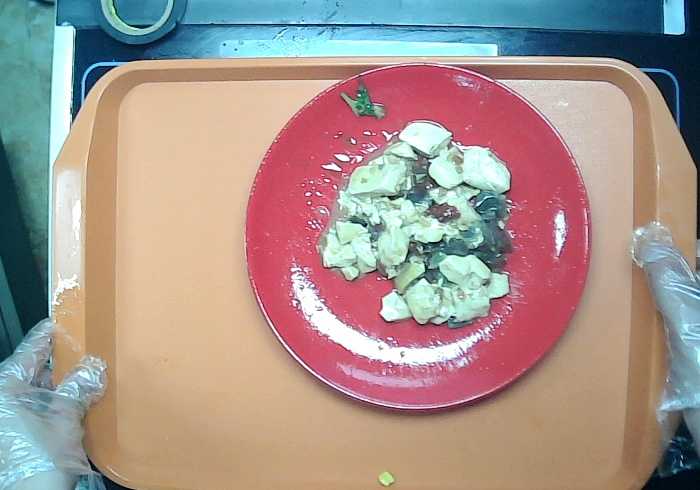HZYJPL-Hong_Se_Yuan_Pan: (243, 61, 593, 411)
